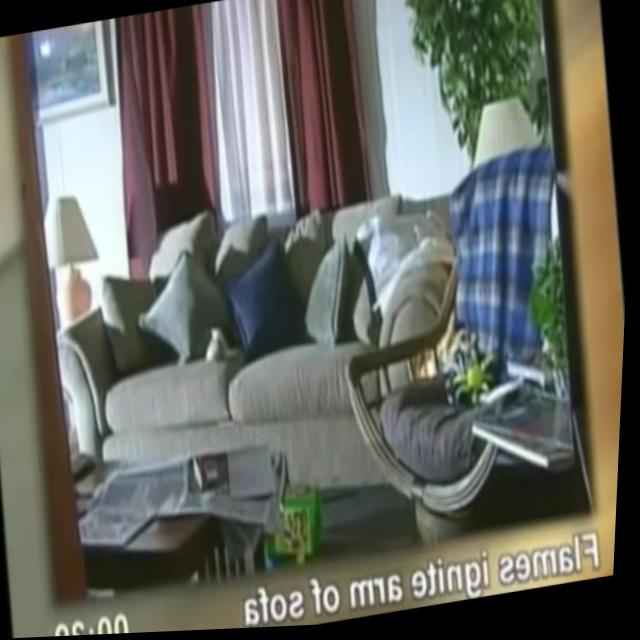fire: (418, 338, 460, 382)
